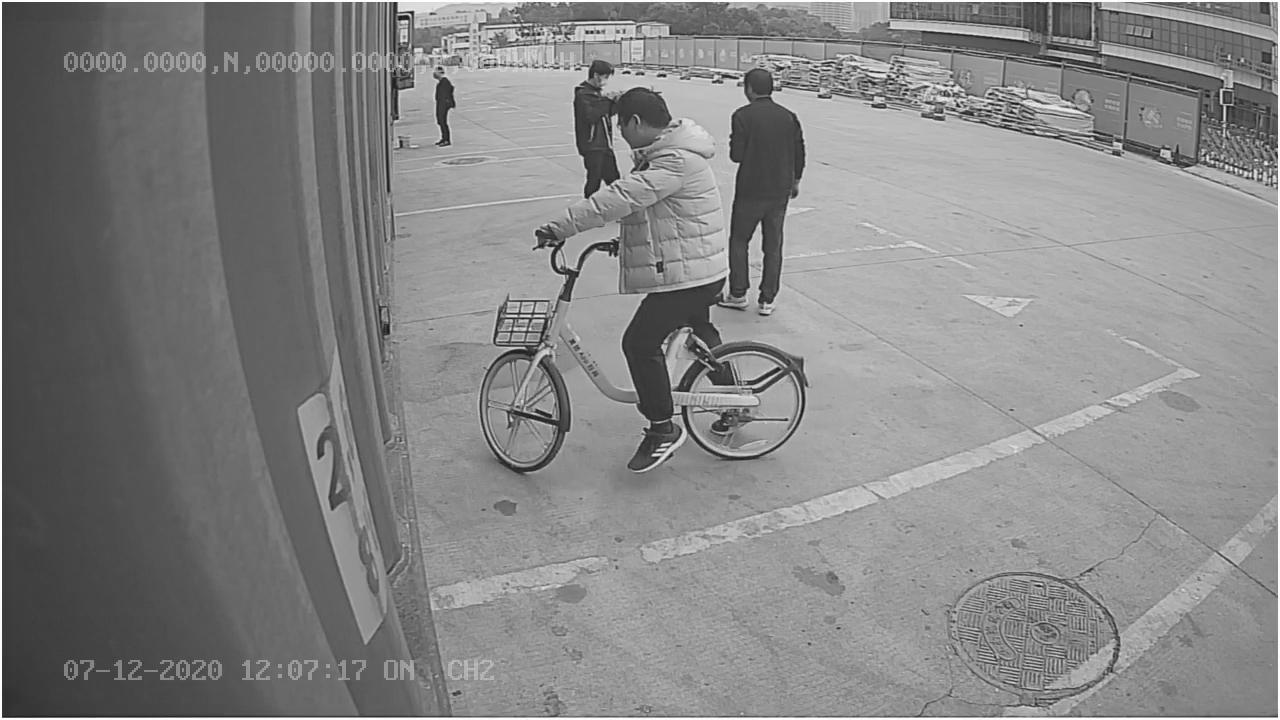person: (715, 65, 810, 316)
